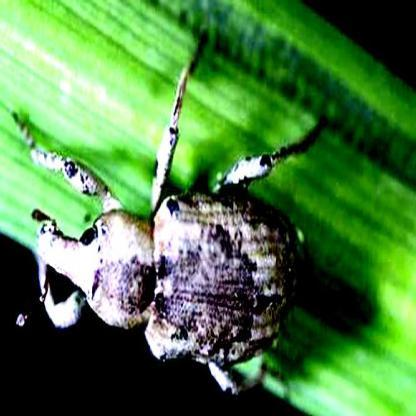rice-bug: (35, 61, 327, 370)
